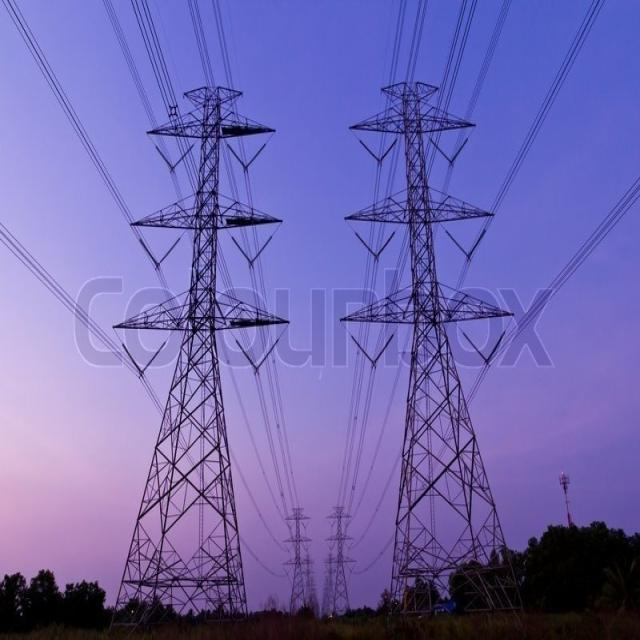non-critical vegetation: (353, 81, 531, 618), (116, 73, 266, 622), (272, 492, 315, 627), (326, 490, 356, 624)
